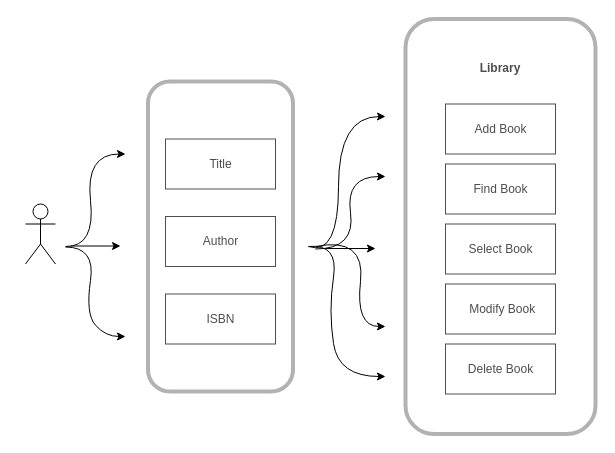
Some shapes in this 615 by 453 pixel diagram are drawn without their labels. Here are the shapes that lost their labels. From the top down, the centre of each, then its label:
At point 40,233: "Librarian".
At point 220,236: "Search Fields".
